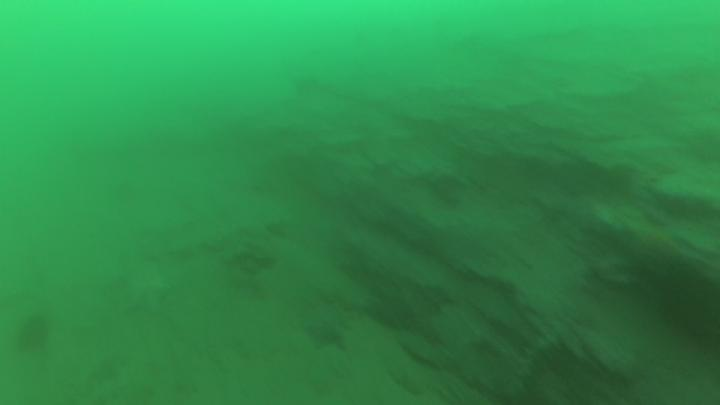starfish: (304, 306, 355, 354)
